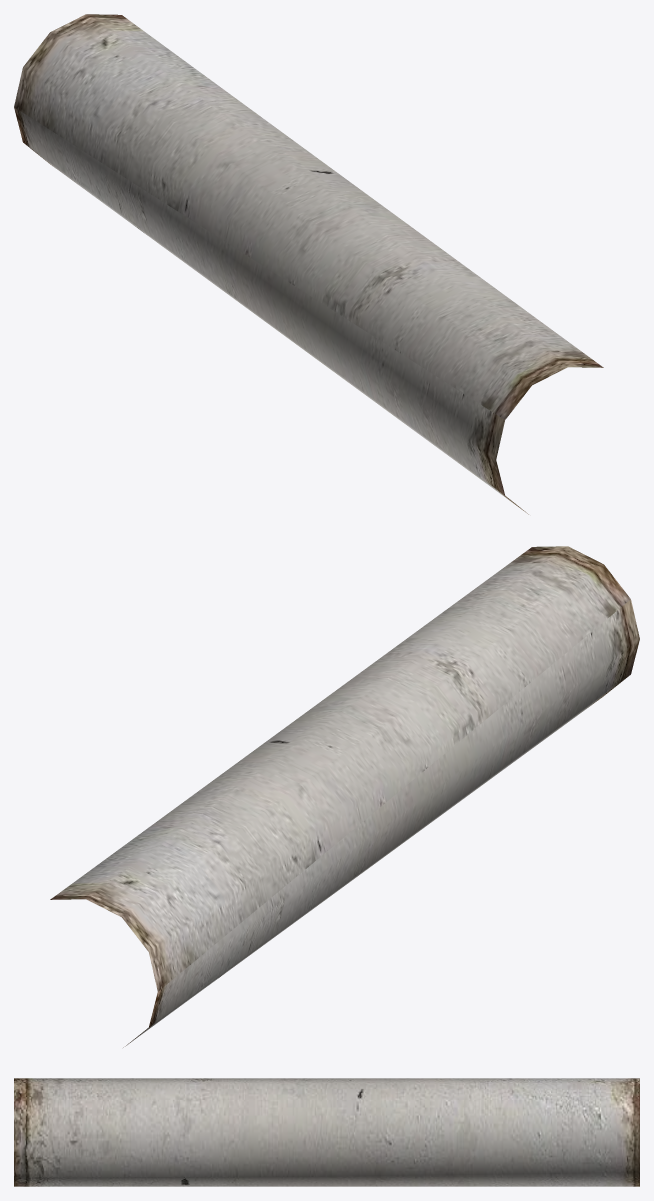
The model's file is pipe03_straight01_long.glb.
3 views of the same model, one above another, from view 1: azimuth 30°, elevation 25°; view 2: azimuth 150°, elevation 25°; view 3: azimuth 270°, elevation 25° (orthographic). The views are drawn at different scales.
Parts seen in each view (by area): view 1: 0_pipesystem01a_skin1; view 2: 0_pipesystem01a_skin1; view 3: 0_pipesystem01a_skin1.
Part boxes in pixels (bbox=[...]): 0_pipesystem01a_skin1: bbox=[14, 14, 603, 514]; 0_pipesystem01a_skin1: bbox=[50, 546, 639, 1047]; 0_pipesystem01a_skin1: bbox=[14, 1078, 639, 1186].
Bounding box in the file's own units: 0.4195 × 0.4195 × 2.44.
Materials: 1 (1 with a texture image).
